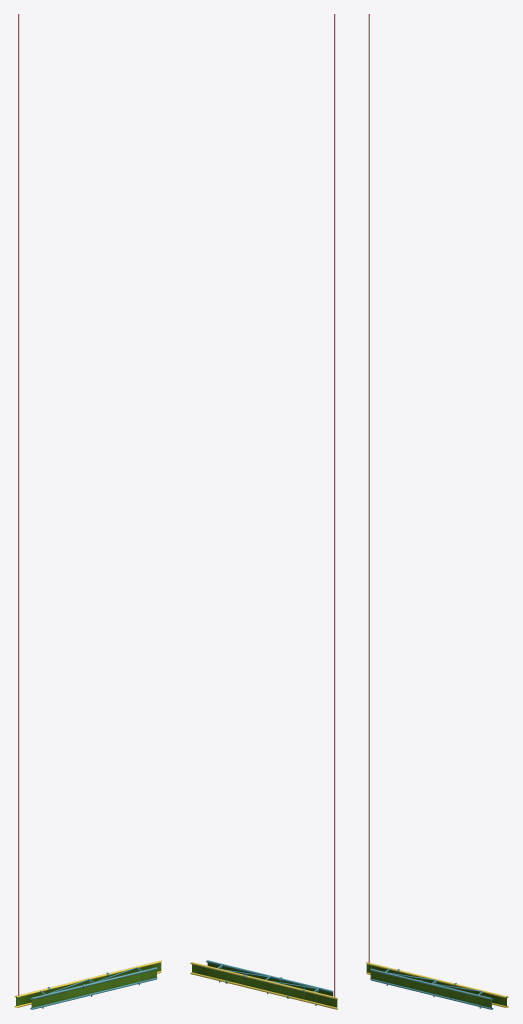
The model's file is SM_PD_Light_Tube_01.fbx.
3 renders of one model, left to right at view 1: azimuth 30°, elevation 25°; view 2: azimuth 150°, elevation 25°; view 3: azimuth 330°, elevation 25°, orthographic. The views are drawn at different scales.
Parts seen in each view (by area): view 1: SM_PD_Light_Tube_01; view 2: SM_PD_Light_Tube_01; view 3: SM_PD_Light_Tube_01.
Part boxes in pixels (x1,y1,x2,y2): SM_PD_Light_Tube_01: (14,14,161,1009); SM_PD_Light_Tube_01: (190,14,337,1009); SM_PD_Light_Tube_01: (366,14,508,1009).
Bounding box in the file's own units: 2207 × 14291 × 200.
